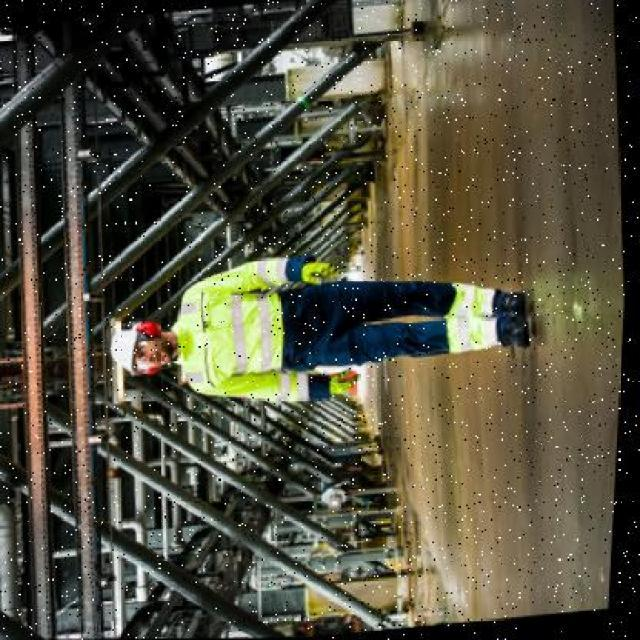helmet: (108, 305, 172, 390)
vest: (165, 251, 323, 413)
